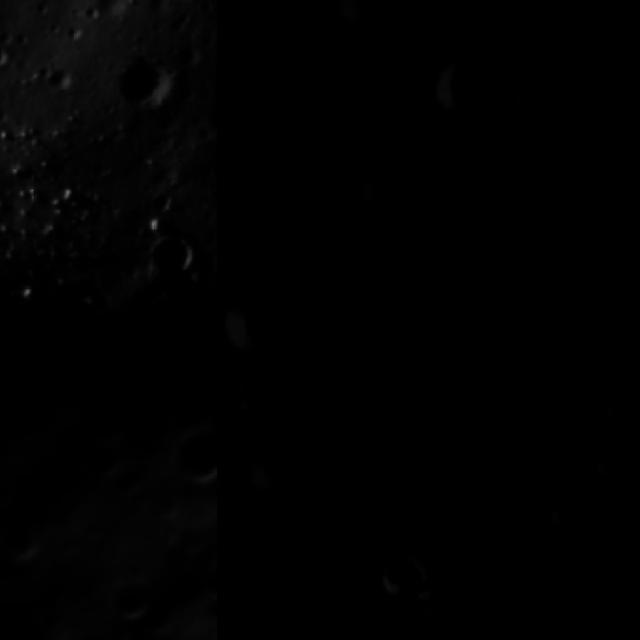crater: (414, 37, 518, 133), (217, 279, 302, 368), (100, 45, 182, 114), (162, 409, 217, 500), (155, 511, 217, 584), (344, 161, 410, 226), (0, 497, 59, 569), (370, 546, 430, 609), (321, 0, 403, 46), (244, 441, 304, 503), (104, 568, 161, 628), (306, 528, 354, 594), (146, 223, 201, 278), (463, 377, 539, 409), (291, 599, 350, 640), (546, 256, 594, 306), (217, 447, 250, 507), (245, 526, 283, 568), (199, 550, 217, 610), (0, 204, 15, 251), (533, 409, 574, 420)
